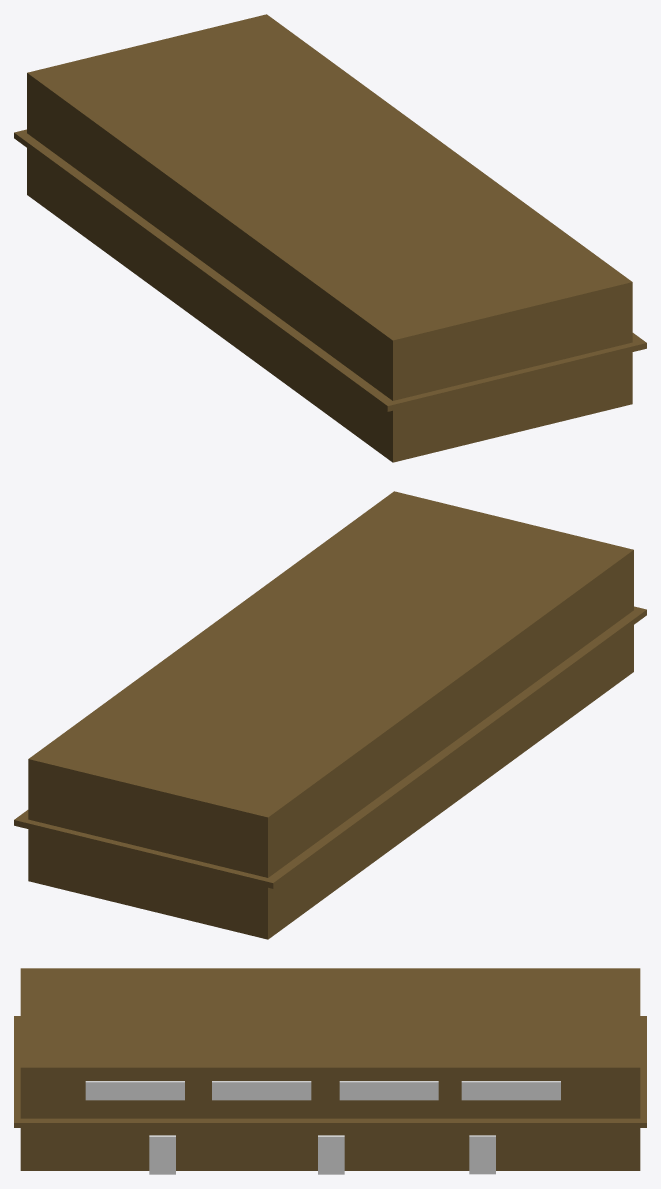
The model's file is house02.fbx.
3 views of the same model, one above another, from view 1: azimuth 30°, elevation 25°; view 2: azimuth 150°, elevation 25°; view 3: azimuth 270°, elevation 25° (orthographic). The views are drawn at different scales.
Parts seen in each view (by area): view 1: Box018; view 2: Box018; view 3: Box018, Box022, Box023, Box024, Box025, Box019, Box020, Box021.
Boxes of the visible parts, left/top/right/bottom form: Box018: left=14, top=14, right=646, bottom=462; Box018: left=14, top=491, right=646, bottom=939; Box018: left=14, top=968, right=646, bottom=1170; Box022: left=85, top=1081, right=184, bottom=1100; Box023: left=212, top=1081, right=311, bottom=1100; Box024: left=339, top=1081, right=438, bottom=1100; Box025: left=461, top=1081, right=560, bottom=1100; Box019: left=469, top=1135, right=495, bottom=1174; Box020: left=318, top=1135, right=344, bottom=1174; Box021: left=149, top=1135, right=175, bottom=1174.
Bounding box in the file's own units: 8.92 × 4.09 × 22.29.
